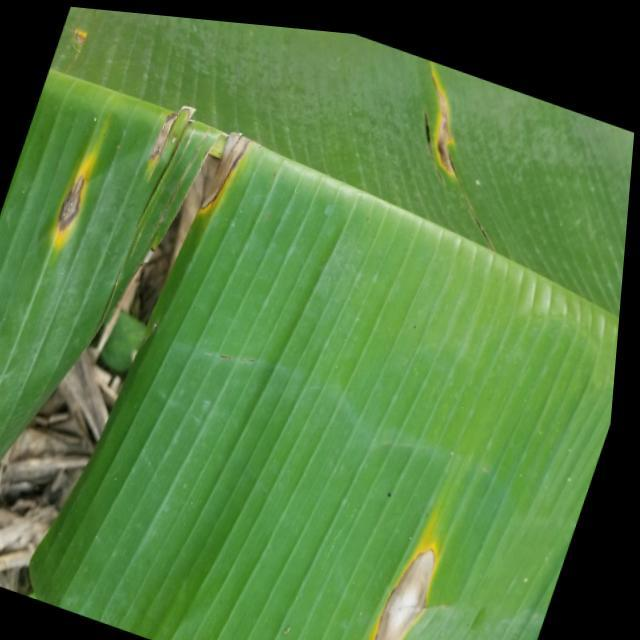Early_rust: (120, 95, 258, 254), (400, 40, 483, 219), (356, 512, 466, 640), (30, 139, 107, 255), (52, 18, 98, 71)
